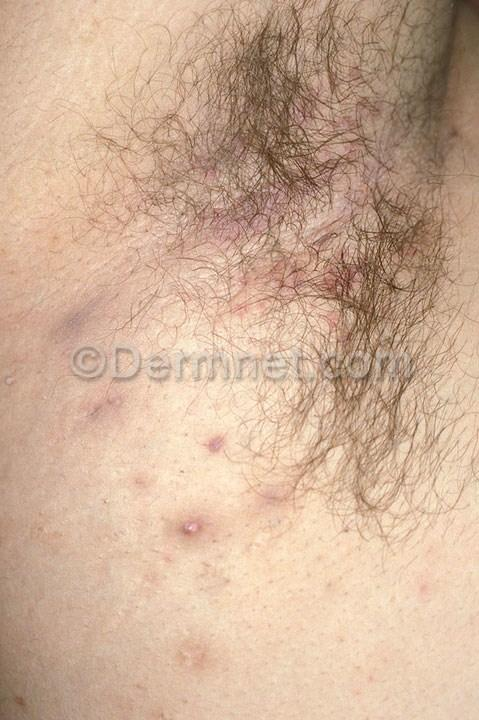Acne: (166, 503, 297, 592), (178, 411, 257, 479)
